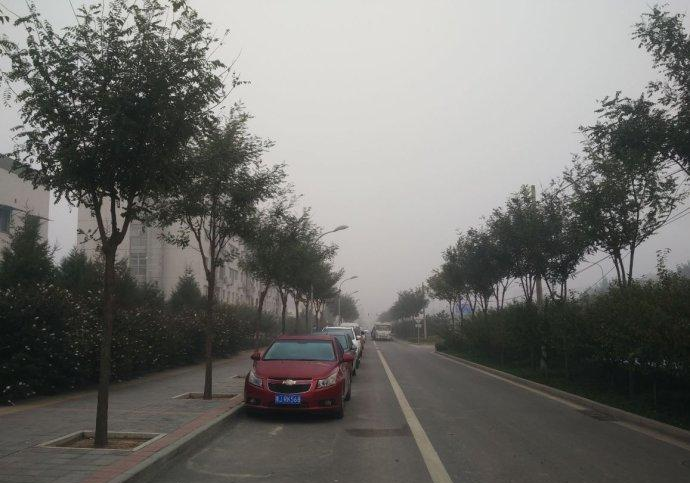bus: (373, 322, 393, 341)
car: (244, 333, 354, 421), (314, 333, 358, 378), (320, 326, 362, 367), (337, 323, 365, 359)
